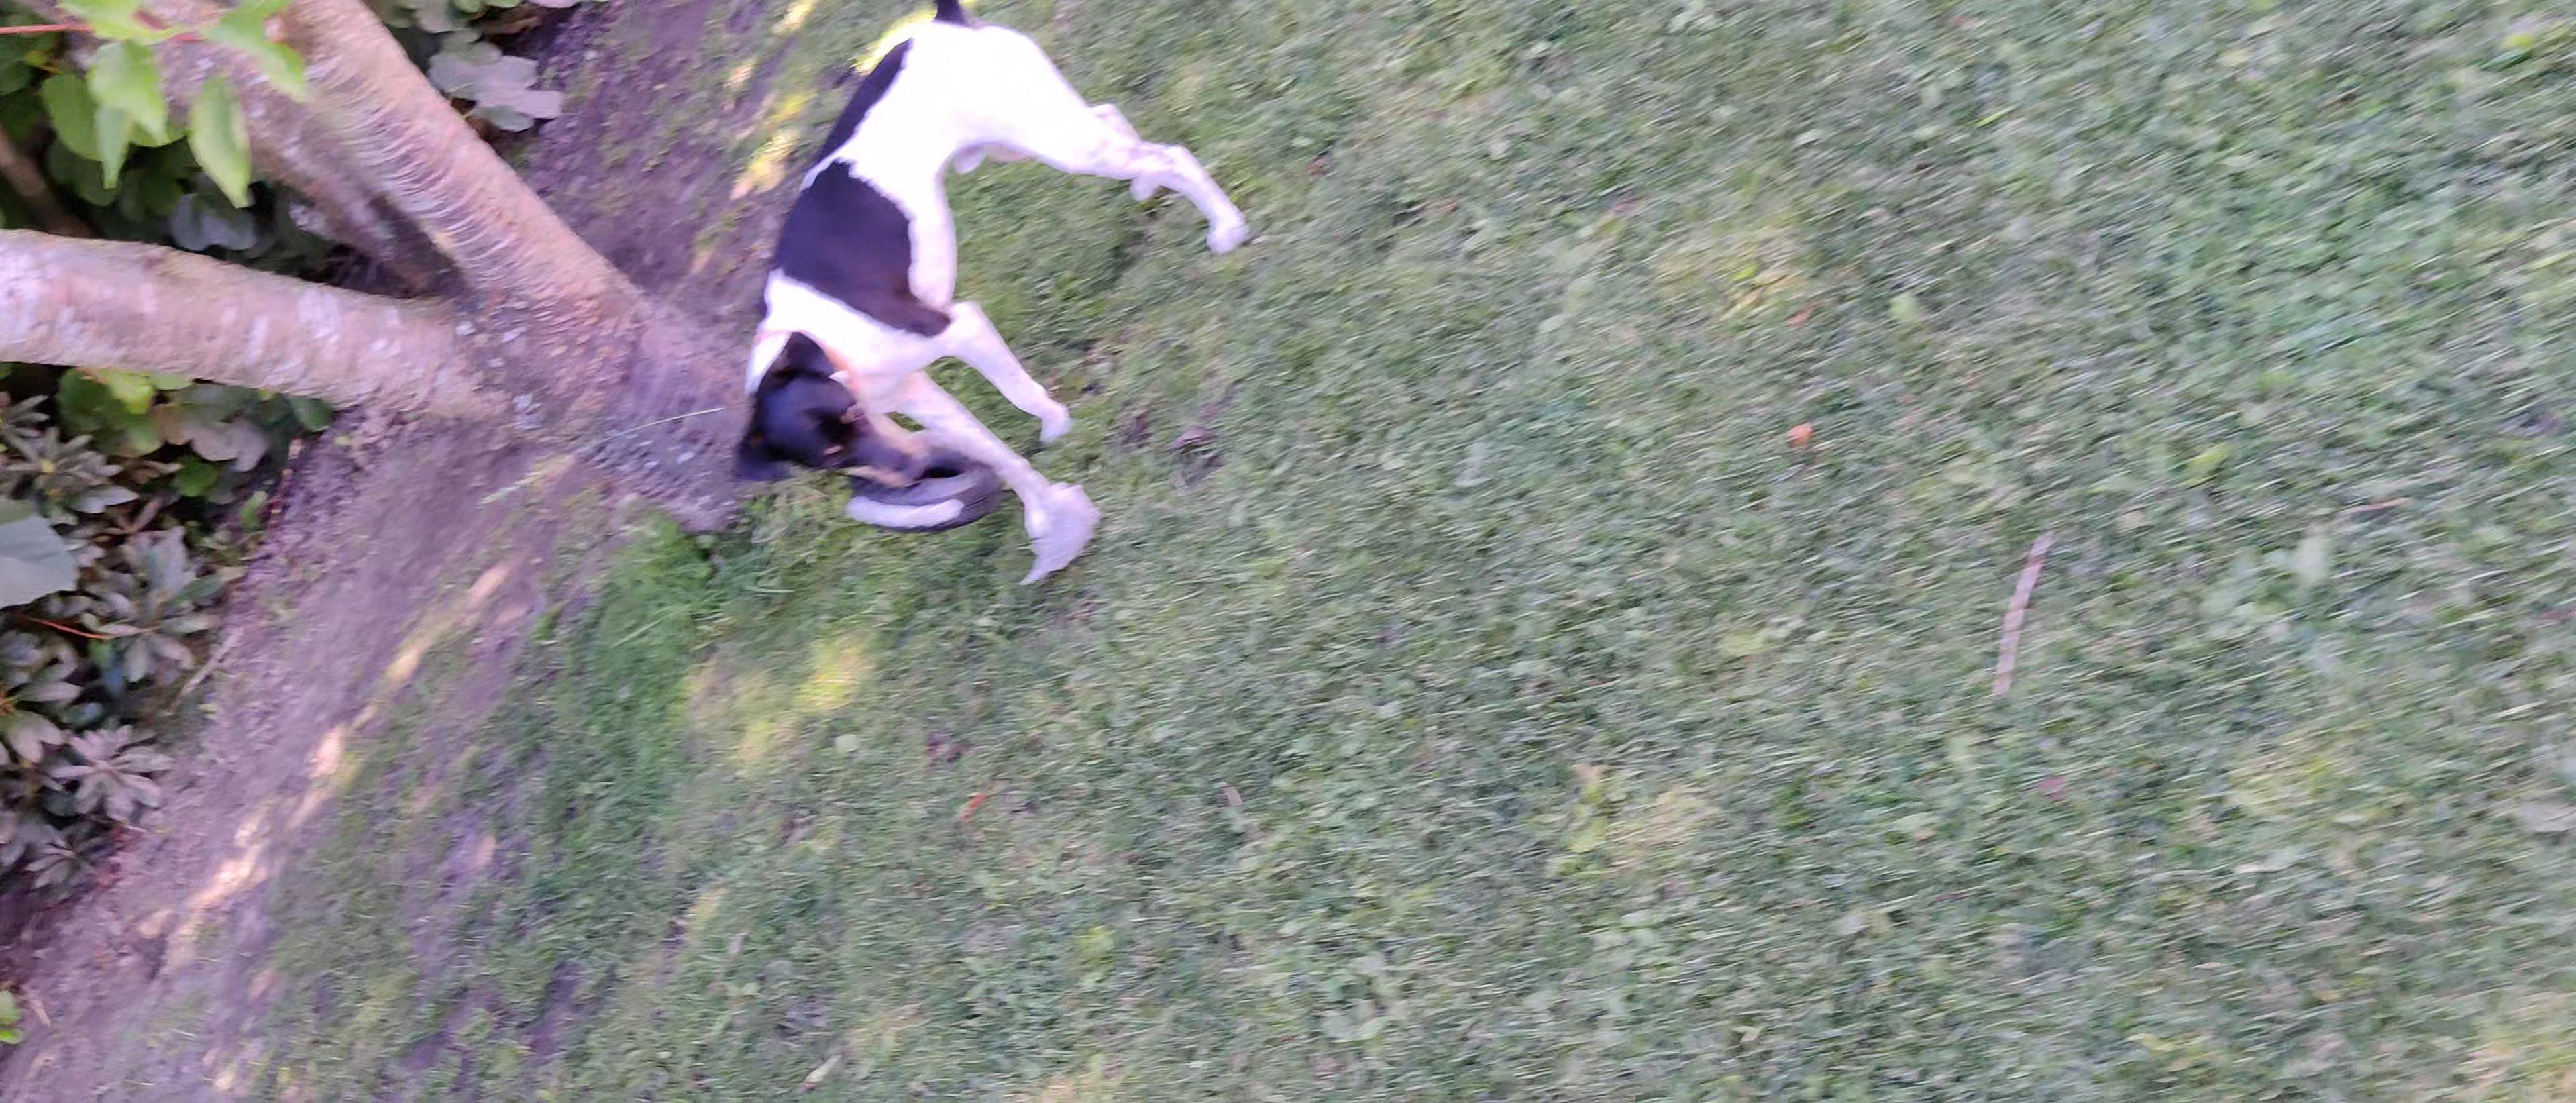Dog: (720, 0, 1257, 544)
